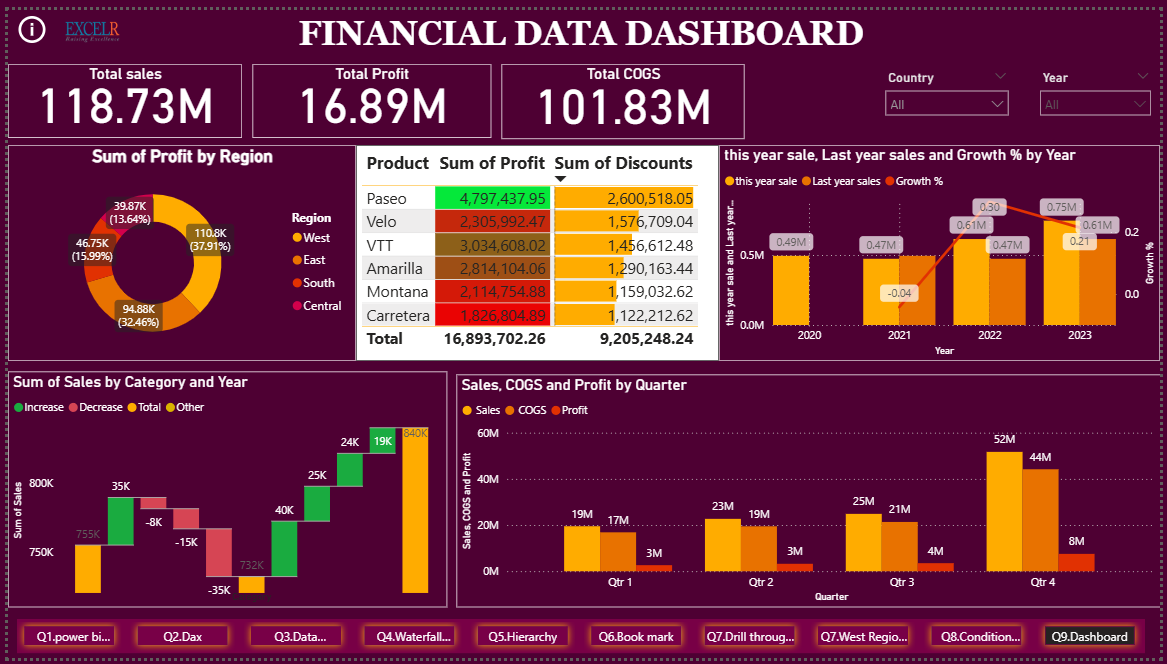

Layout of this report page (visuals, bound fields, positions):
{"tool":"powerbi","page":{"name":"Q9.Dashboard","canvas":[1280,720],"ordinal":9},"visuals":[{"type":"textbox","box":[9.5,0,1253.4,70],"z":0},{"type":"tableEx","fields":{"Values":["financials.Product","Sum(financials.Profit)","Sum(financials.Discounts)"]},"box":[386.7,150,403.3,240],"z":1000},{"type":"donutChart","fields":{"Category":["Orders.Region"],"Y":["Sum(Orders.Profit)"]},"box":[0,150,386.7,240],"z":2000},{"type":"clusteredColumnChart","fields":{"Y":["Sum(financials. Sales)","Sum(financials.COGS)","Sum(financials.Profit)"],"Category":["financials.Date.Variation.Date Hierarchy.Year","financials.Date.Variation.Date Hierarchy.Quarter","financials.Date.Variation.Date Hierarchy.Month"]},"box":[498.3,405.2,782.8,258.6],"z":3000},{"type":"lineClusteredColumnComboChart","fields":{"Category":["Orders.Order Date.Variation.Date Hierarchy.Year"],"Y":["Orders.this year sale","Orders.Last year sales"],"Y2":["Orders.Growth %"]},"box":[790,150,490,240],"z":4000},{"type":"waterfallChart","fields":{"Y":["Sum(Orders.Sales)"],"Category":["Orders.Category"],"Breakdown":["Orders.Order Date.Variation.Date Hierarchy.Year"]},"box":[0,401.7,487.9,262.1],"z":5000},{"type":"card","title":"Total sales","fields":{"Values":["Sum(financials. Sales)"]},"box":[0,60,260,81.7],"z":6000},{"type":"card","title":"Total Profit","fields":{"Values":["Sum(financials.Profit)"]},"box":[271.7,60,265,81.7],"z":7000},{"type":"slicer","fields":{"Values":["financials.Country"]},"box":[965,61.7,156.7,71.7],"z":8000},{"type":"slicer","fields":{"Values":["financials.Date.Variation.Date Hierarchy.Year"]},"box":[1136.7,61.7,143.3,71.7],"z":9000},{"type":"card","title":"Total COGS","fields":{"Values":["Sum(financials.COGS)"]},"box":[548.3,60,270,83.3],"z":10000},{"type":"actionButton","box":[6.7,1.7,100,40],"z":11000},{"type":"image","box":[56.7,1.7,73.3,40],"z":12000},{"type":"pageNavigator","box":[10.3,675.9,1253.4,37.9],"z":12001}]}

Visuals, with their boxes in screenshot pixels (x1, y1, x2, y2), scaled from the page's 1280x720 canvas onto the 1167x664 screenshot:
textbox: x1=9 y1=0 x2=1151 y2=65
tableEx - financials.Product x Sum(financials.Profit): x1=353 y1=138 x2=720 y2=360
donutChart - Orders.Region x Sum(Orders.Profit): x1=0 y1=138 x2=353 y2=360
clusteredColumnChart - Sum(financials. Sales) x Sum(financials.COGS): x1=454 y1=374 x2=1166 y2=612
lineClusteredColumnComboChart - Orders.Order Date.Variation.Date Hierarchy.Year x Orders.this year sale: x1=720 y1=138 x2=1166 y2=360
waterfallChart - Sum(Orders.Sales) x Orders.Category: x1=0 y1=370 x2=445 y2=612
"Total sales" card: x1=0 y1=55 x2=237 y2=131
"Total Profit" card: x1=248 y1=55 x2=489 y2=131
slicer - financials.Country: x1=880 y1=57 x2=1023 y2=123
slicer - financials.Date.Variation.Date Hierarchy.Year: x1=1036 y1=57 x2=1166 y2=123
"Total COGS" card: x1=500 y1=55 x2=746 y2=132
actionButton: x1=6 y1=2 x2=97 y2=38
image: x1=52 y1=2 x2=119 y2=38
pageNavigator: x1=9 y1=623 x2=1152 y2=658
